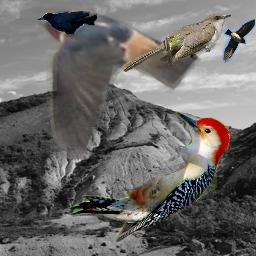Crow: (36, 11, 97, 34)
Cuckoo: (121, 13, 231, 72)
Swallow: (38, 3, 201, 159), (222, 18, 255, 63)
Woodpecker: (67, 112, 230, 243)
